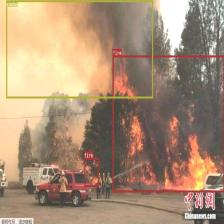fire: (112, 55, 224, 192), (84, 158, 99, 187)
smoke: (6, 0, 152, 98)
